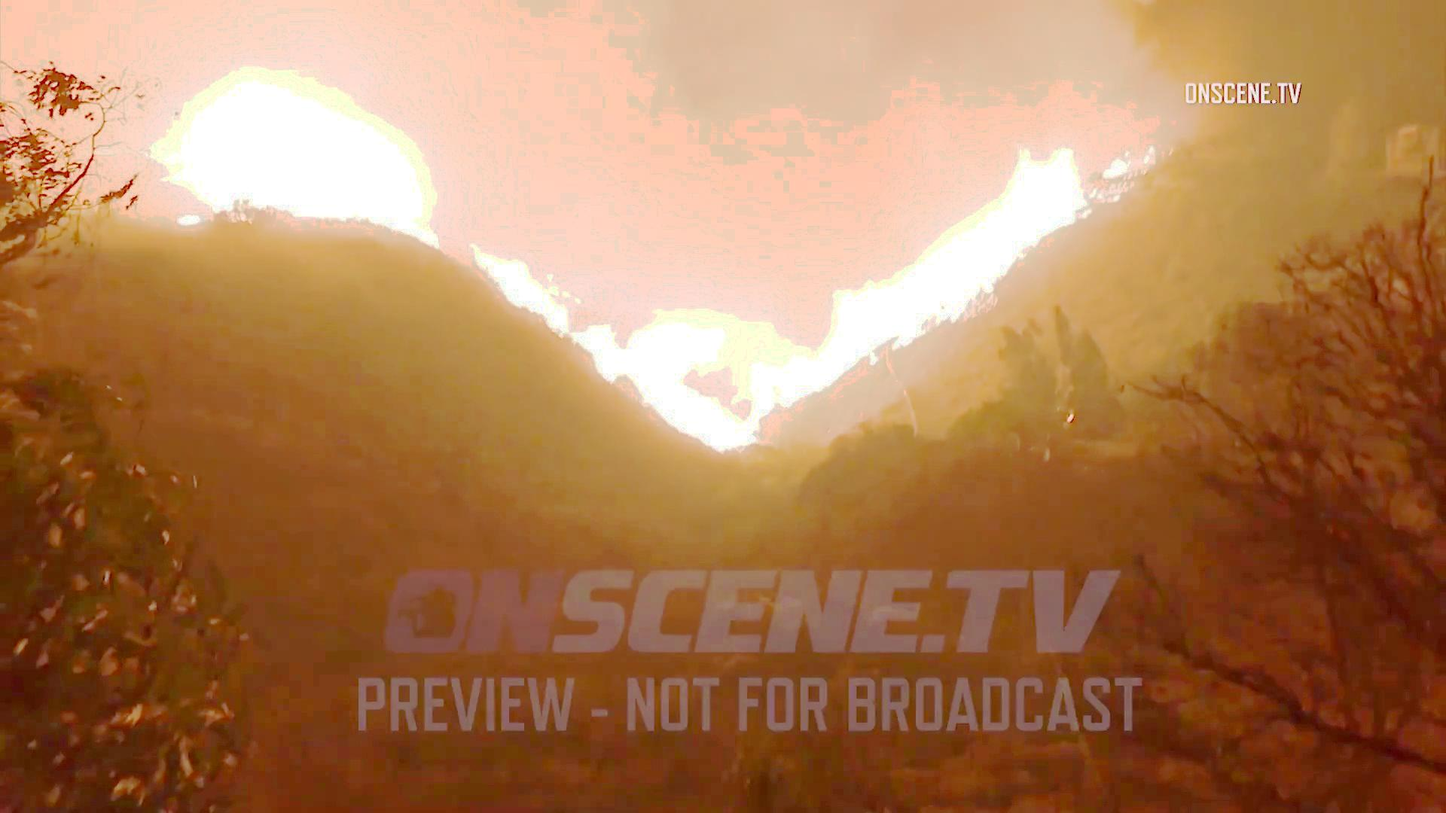fire: (477, 234, 758, 437), (846, 136, 1107, 354), (166, 59, 444, 255)
